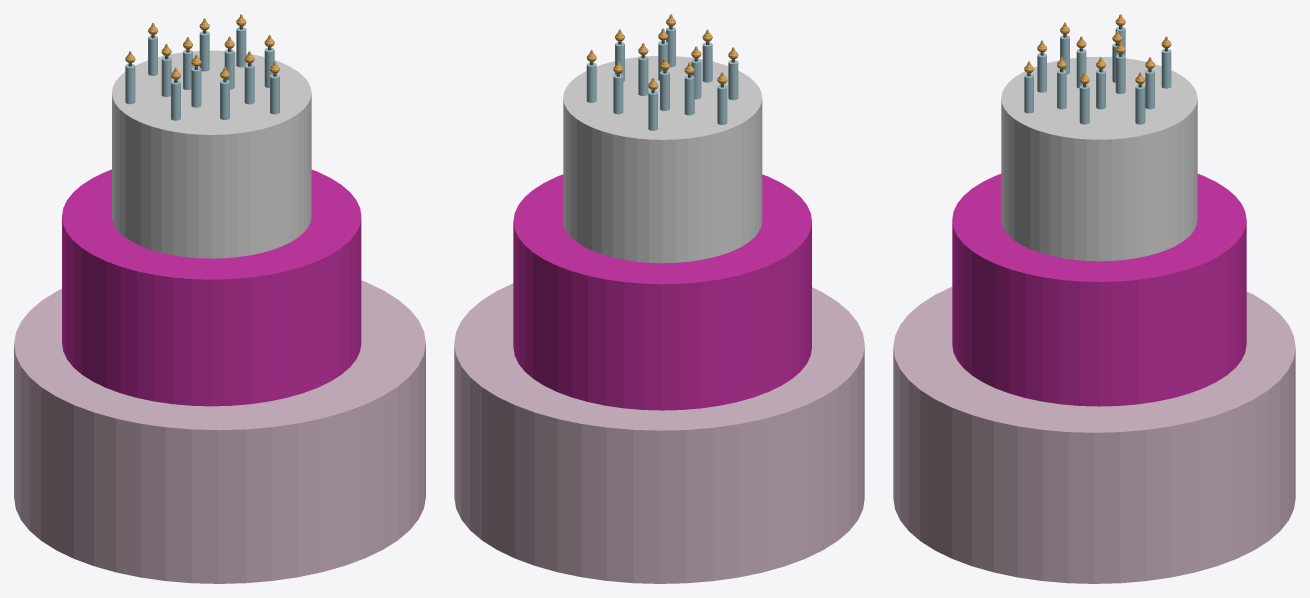
The model's file is Bodacious Inari.glb.
3 renders of one model, left to right at view 1: azimuth 30°, elevation 25°; view 2: azimuth 150°, elevation 25°; view 3: azimuth 270°, elevation 25°, orthographic.
Parts seen in each view (by area): view 1: Mesh_Mesh_head_geo.001_lambert2SG.001; view 2: Mesh_Mesh_head_geo.001_lambert2SG.001; view 3: Mesh_Mesh_head_geo.001_lambert2SG.001.
Boxes of the visible parts, x1,y1,x2,y2 form: Mesh_Mesh_head_geo.001_lambert2SG.001: [14, 14, 425, 583]; Mesh_Mesh_head_geo.001_lambert2SG.001: [454, 14, 864, 583]; Mesh_Mesh_head_geo.001_lambert2SG.001: [893, 14, 1295, 583].
Size of the model in its own units: 0.124 by 0.151 by 0.123.
